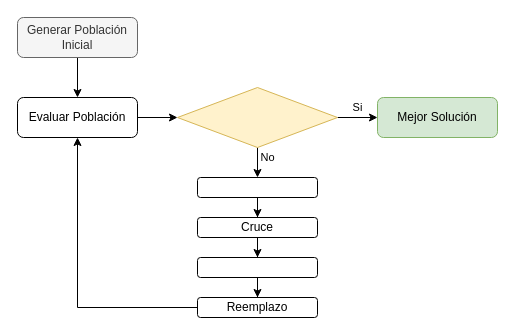
Some shapes in this 515 by 335 pixel diagram are drawn without their labels. Here are the shapes that lost their labels. From the top down, the centre of each, then its label:
the point at 257,117: Condición de parada
the point at 257,187: Selección
the point at 257,267: Mutación
